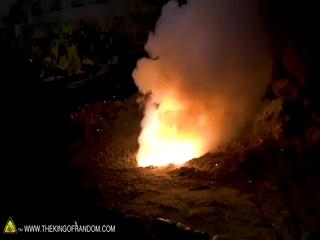Fire: (135, 86, 204, 168)
